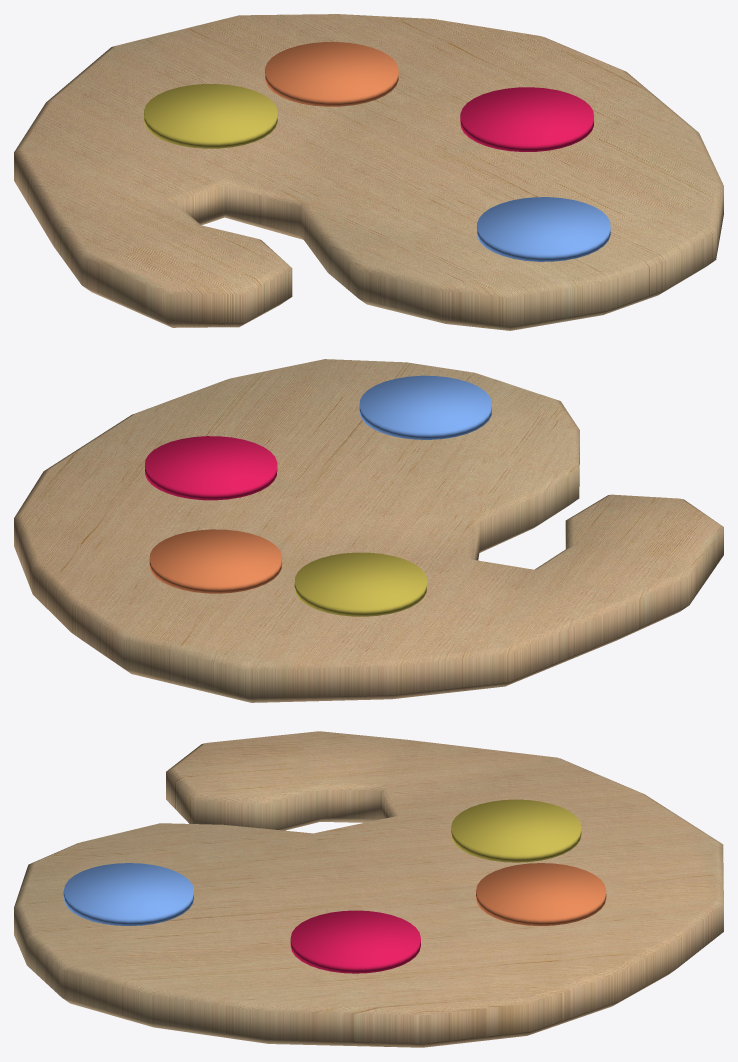
The model's file is paleta.fbx.
The picture shows the model from 3 angles, top to bottom: view 1: azimuth 30°, elevation 25°; view 2: azimuth 150°, elevation 25°; view 3: azimuth 270°, elevation 25°; orthographic projection. The views are drawn at different scales.
Visible parts, largest first — view 1: Plane.003; view 2: Plane.003; view 3: Plane.003.
Part boxes in pixels (left/top/right/bottom): Plane.003: left=14, top=14, right=723, bottom=330; Plane.003: left=14, top=359, right=723, bottom=702; Plane.003: left=14, top=731, right=723, bottom=1047.
Bounding box in the file's own units: 111 × 9.22 × 117.
